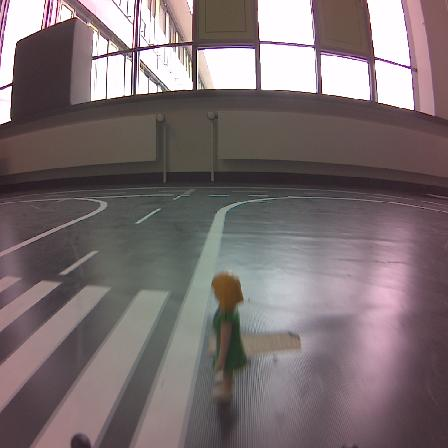PERSON: (212, 271, 246, 402)
